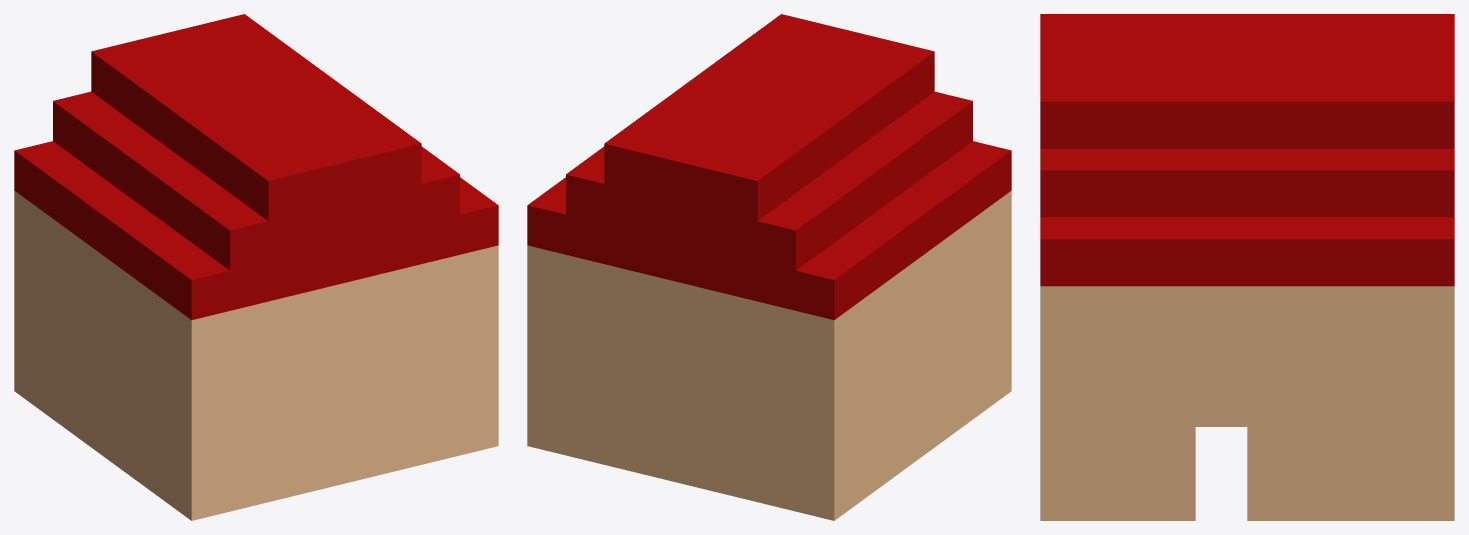
Rendered from eescola.obj.
3 views of the same model, side by side, from view 1: azimuth 30°, elevation 25°; view 2: azimuth 150°, elevation 25°; view 3: azimuth 270°, elevation 25° (orthographic). The views are drawn at different scales.
Size of the model in its own units: 0.8 by 0.8 by 0.8.
1 material, 1 textured.
